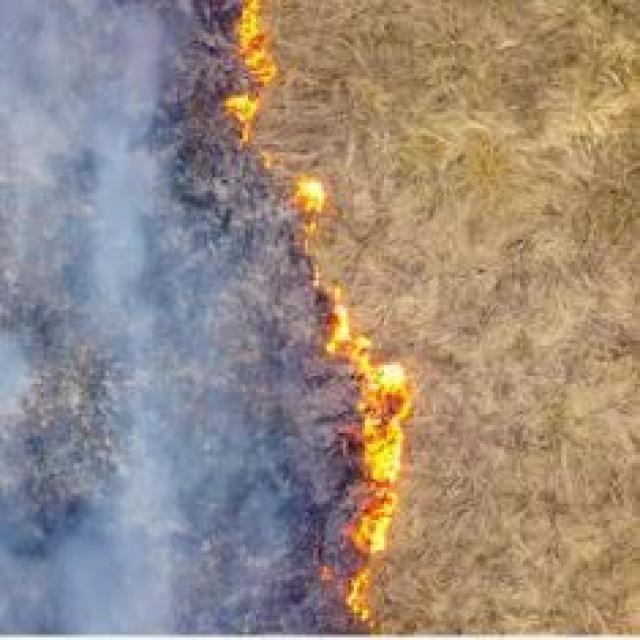Fire: (322, 294, 419, 640), (221, 0, 284, 138), (284, 166, 345, 233)
Smoke: (2, 0, 254, 640)
